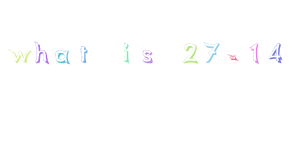-: (226, 52, 240, 64)
1: (248, 41, 260, 64)
2: (182, 42, 198, 64)
4: (267, 40, 283, 65)
7: (203, 40, 220, 64)
a: (54, 48, 71, 64)
h: (34, 41, 49, 63)
i: (119, 39, 132, 64)
s: (140, 49, 154, 64)
t: (78, 44, 88, 64)
w: (8, 47, 30, 64)
